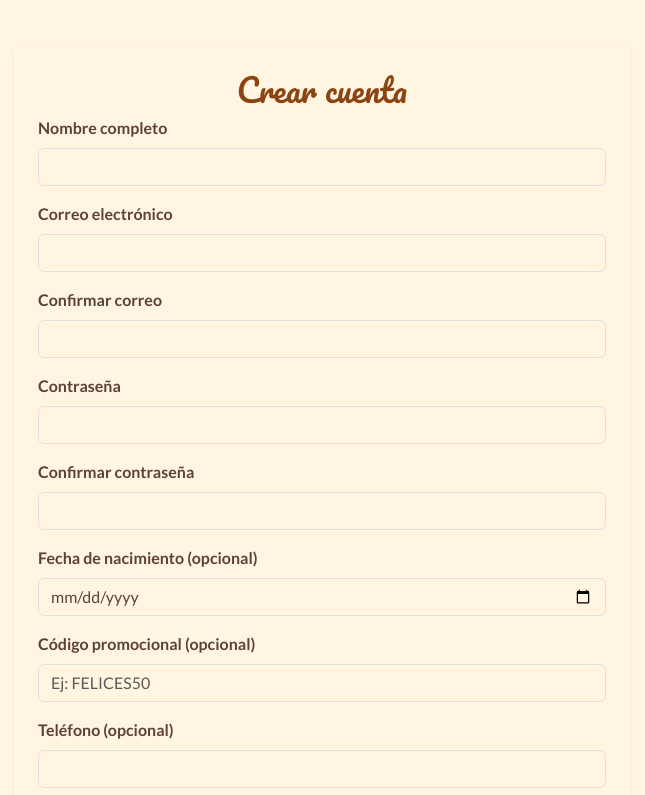
<Registro /> › con datos válidos guarda al usuario y muestra el mensaje de éxito
This screenshot has width=645, height=795.
Type "Ana Pérez" into the field labelled "Nombre completo". click: [322, 167]
box: [38,148,606,186]
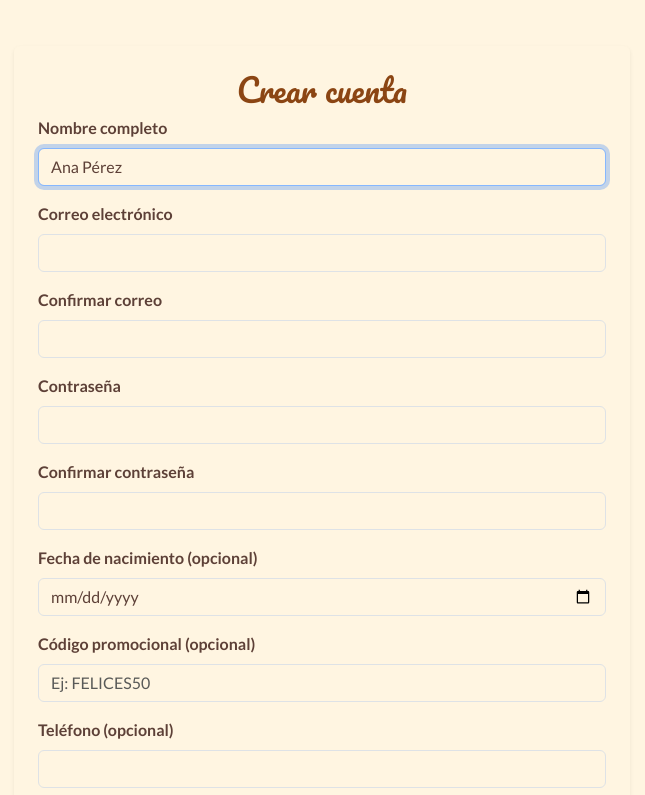
Type "ana@duoc.cl" into the field labelled "Correo electrónico". click: [322, 253]
box: [38,234,606,272]
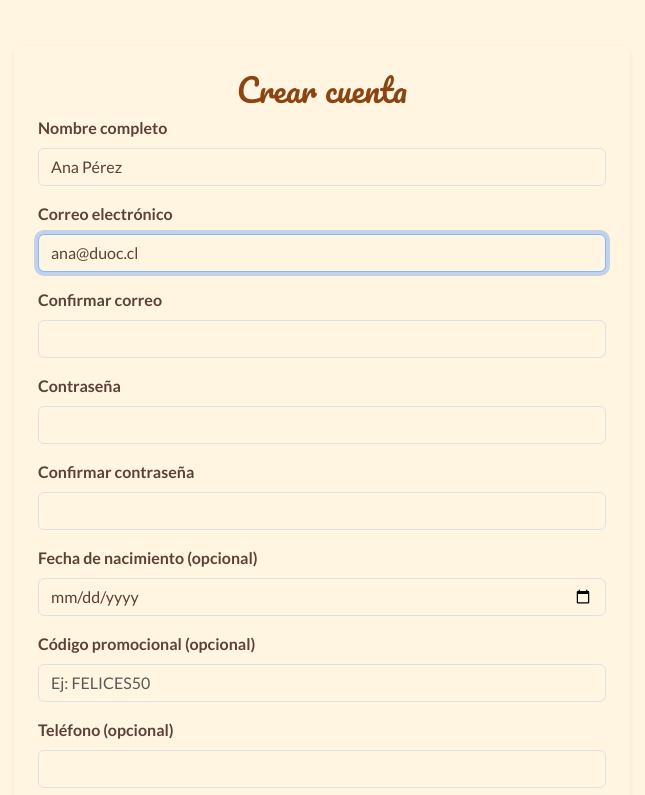
Type "ana@duoc.cl" into the field labelled "Confirmar correo". click: [322, 339]
box: [38,320,606,358]
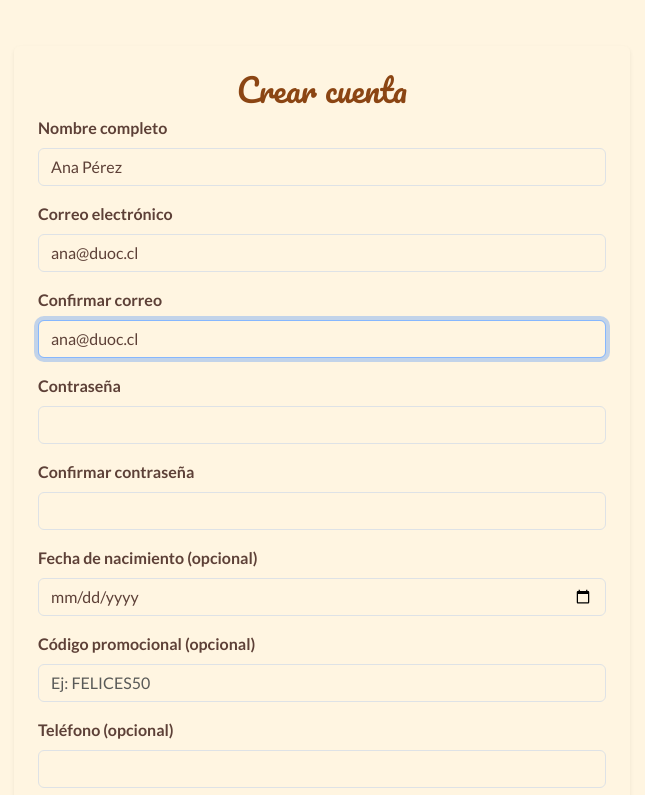
Type "clave123" into the password field labelled "Contraseña". click: [322, 425]
box: [38,406,606,444]
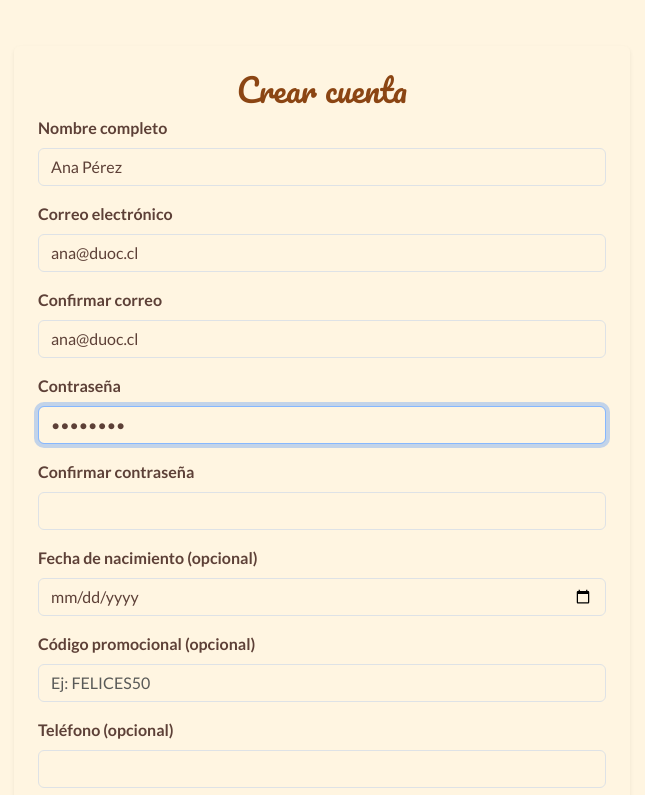
Type "clave123" into the password field labelled "Confirmar contraseña". click: [322, 511]
box: [38,492,606,530]
(page scrolled)
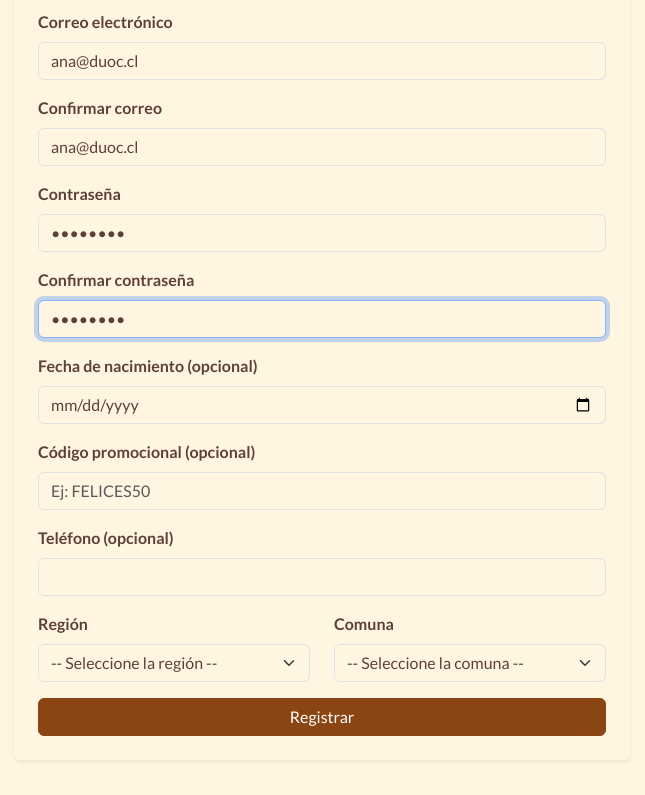
Click the button "Registrar". click: [322, 717]
box: [38,698,606,736]
(page scrolled)
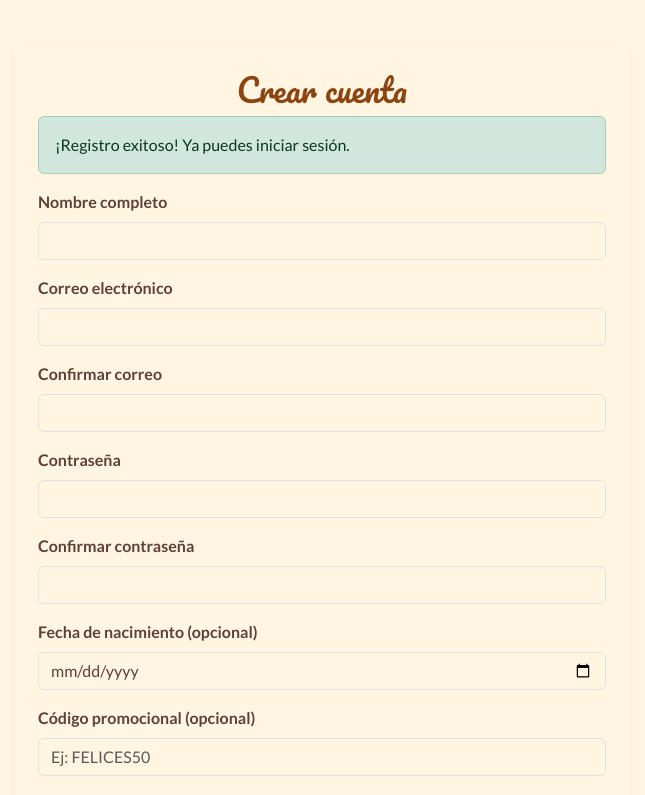
Result: the text "¡Registro exitoso! Ya puedes iniciar sesión." is shown at [38,116,606,174]
Result: the field labelled "Nombre completo" is empty at [38,222,606,260]
